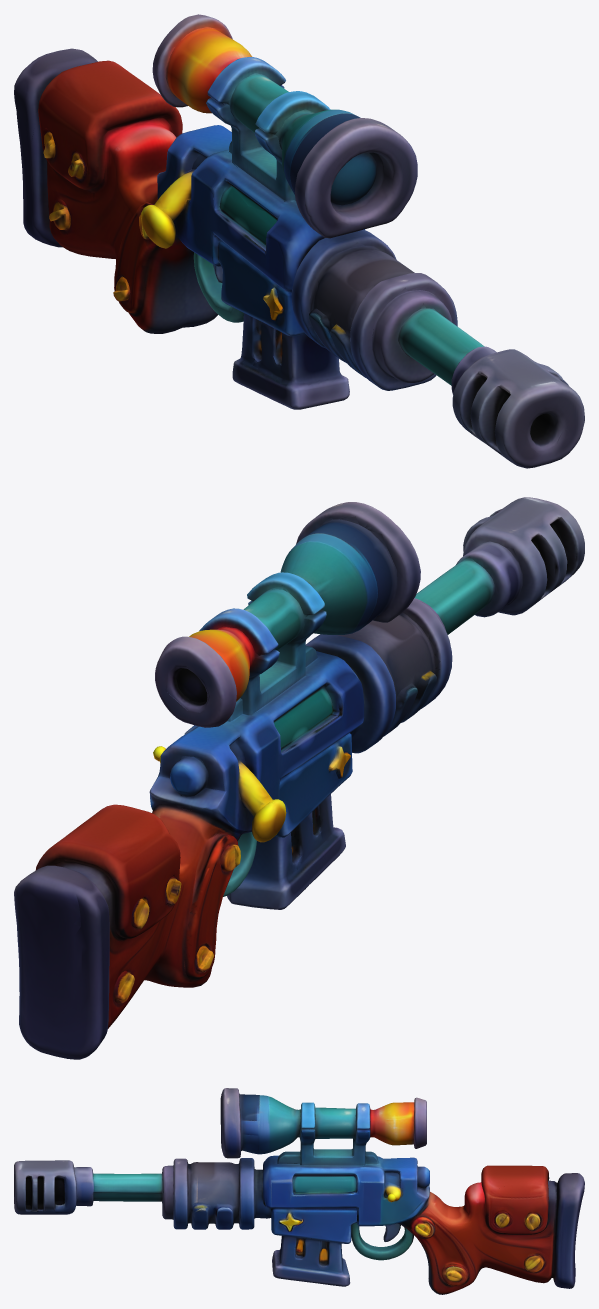
The model's file is LinceRifle.fbx.
3 views of the same model, one above another, from view 1: azimuth 30°, elevation 25°; view 2: azimuth 150°, elevation 25°; view 3: azimuth 270°, elevation 25° (orthographic). The views are drawn at different scales.
Parts seen in each view (by area): view 1: LinceRifle; view 2: LinceRifle; view 3: LinceRifle.
Part boxes in pixels (x1,y1,x2,y2): LinceRifle: (14, 14, 584, 468); LinceRifle: (14, 497, 584, 1059); LinceRifle: (14, 1088, 584, 1294).
Bounding box in the file's own units: 12.9 × 32.14 × 85.
1 material, 1 textured.
